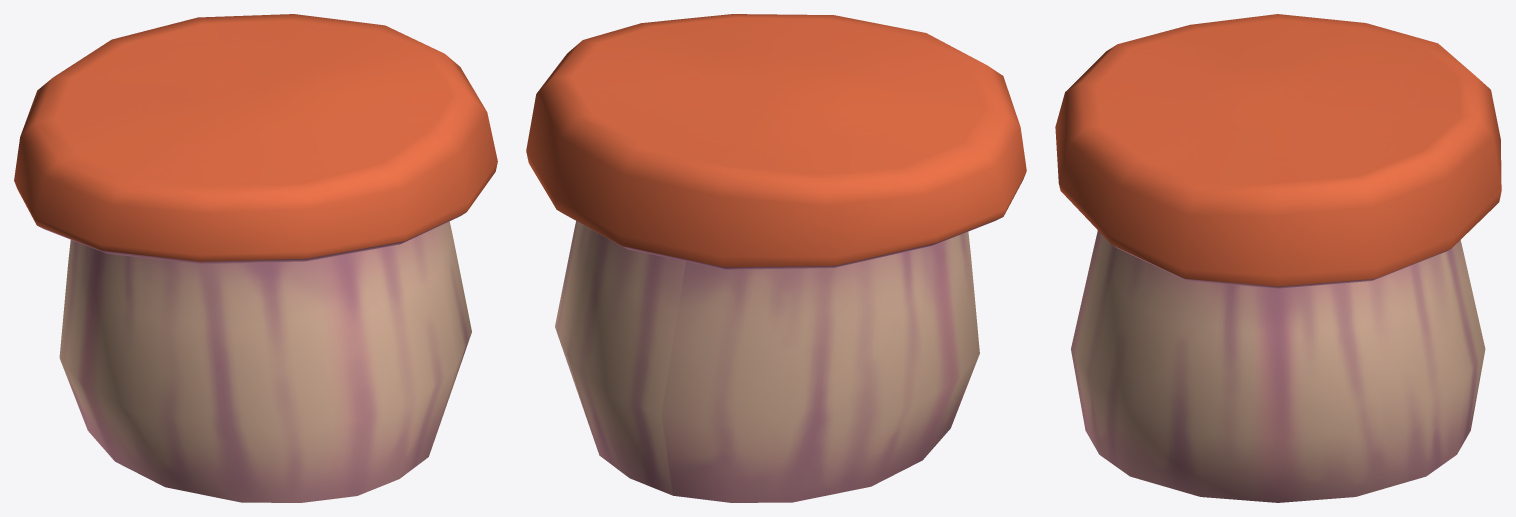
The model's file is MD_mushroom_chair.fbx.
The picture shows the model from 3 angles, left to right: view 1: azimuth 30°, elevation 25°; view 2: azimuth 150°, elevation 25°; view 3: azimuth 270°, elevation 25°; orthographic projection. The views are drawn at different scales.
Visible parts, largest first — view 1: mushroom_chair1; view 2: mushroom_chair1; view 3: mushroom_chair1.
Boxes of the visible parts, box(x1,y1,x2,y2) form: mushroom_chair1: box(14, 14, 497, 502); mushroom_chair1: box(526, 14, 1026, 502); mushroom_chair1: box(1055, 14, 1501, 502).
Bounding box in the file's own units: 31.77 × 23.04 × 27.98.
Materials: 1 (1 with a texture image).
